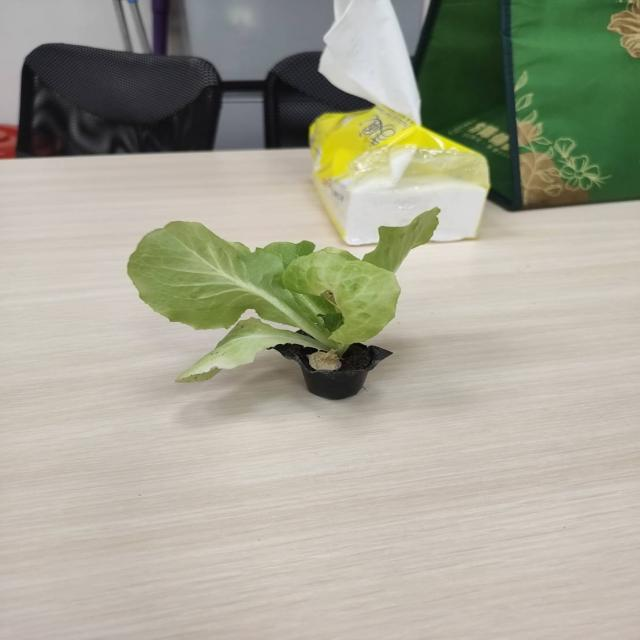Lettuce-Not-Ready-to-Harvest: (128, 209, 438, 381)
